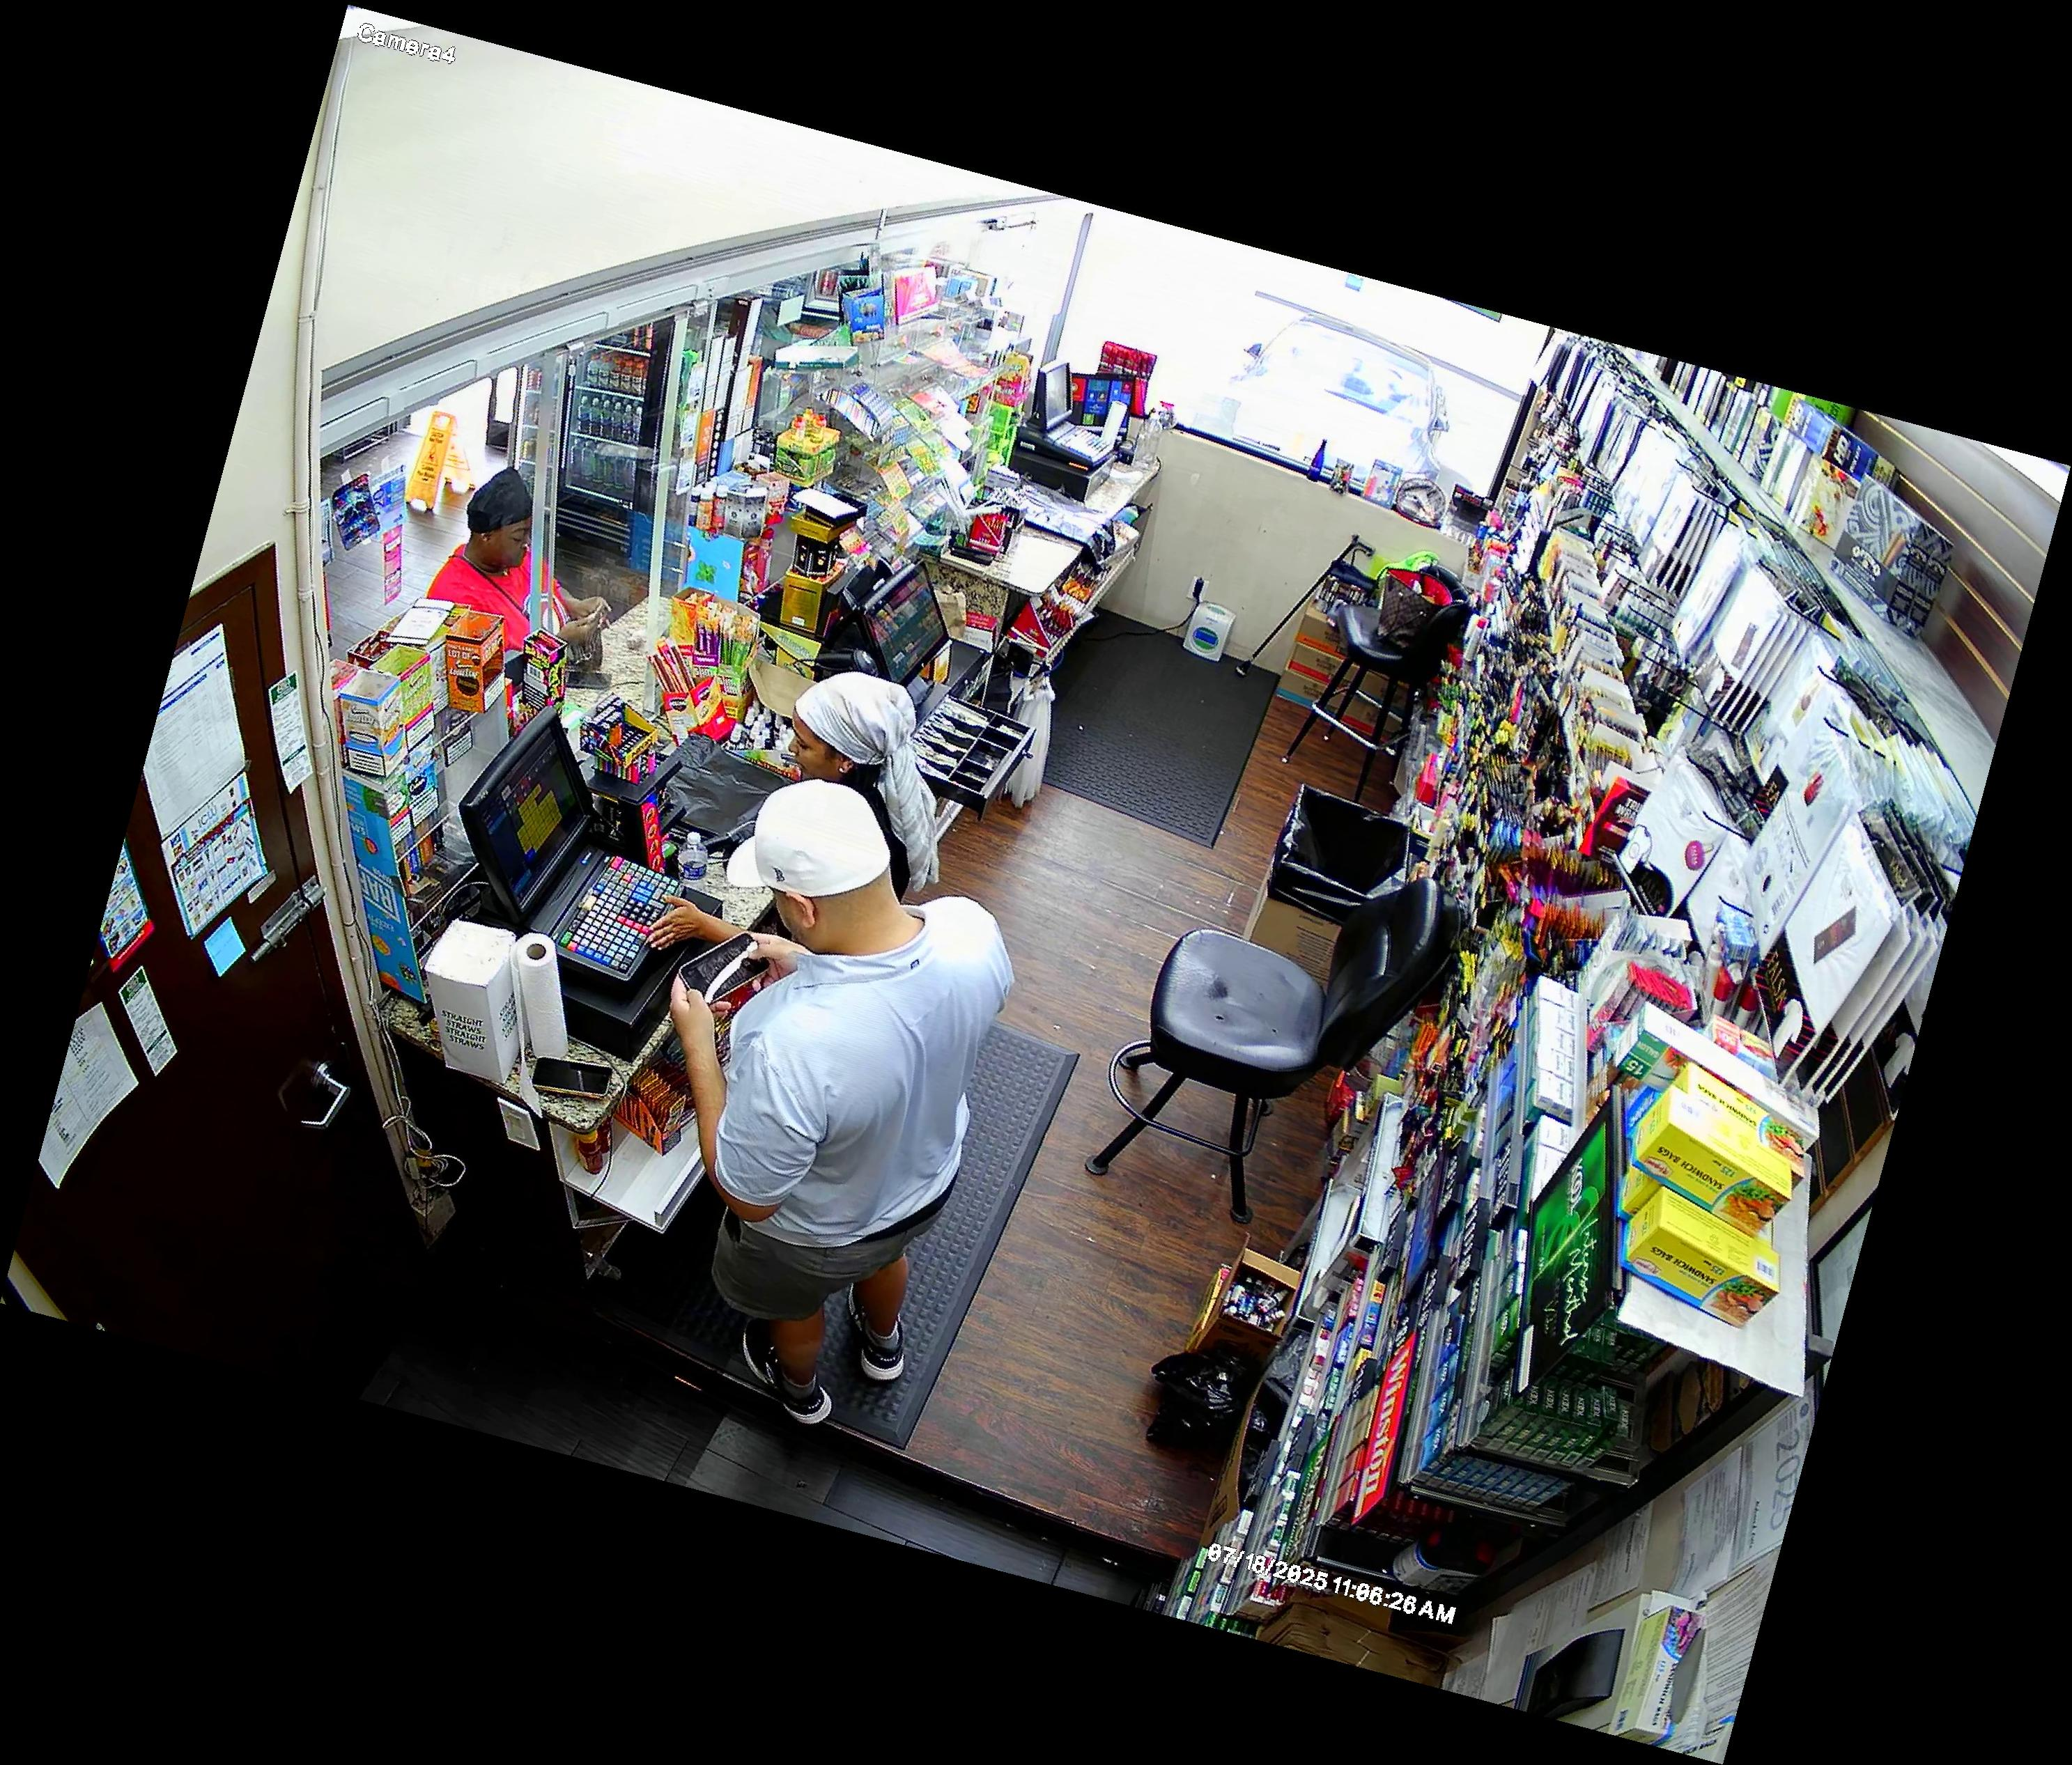phone: (669, 926, 781, 1009)
